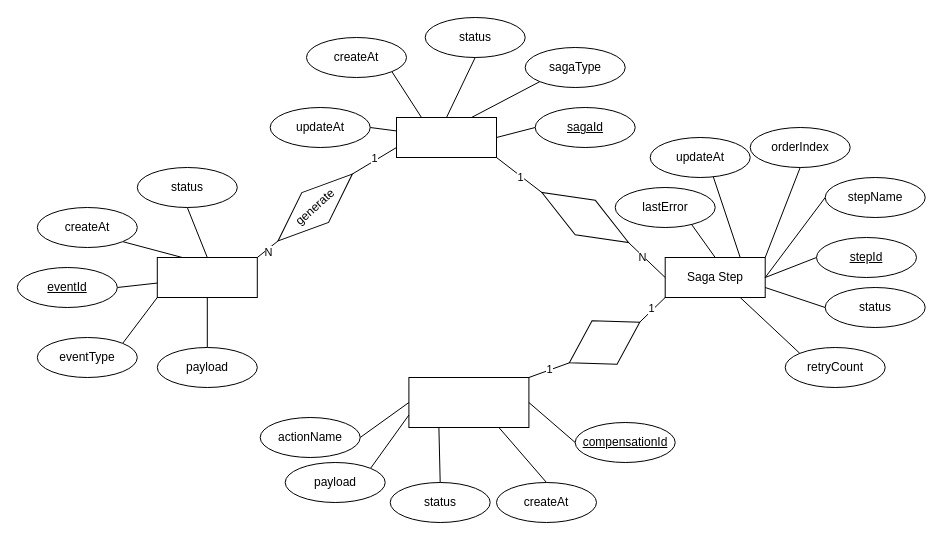
Image size: 943x540. Some labels were removed from this diagram. The box of each missing label's shape, as (x1, y1, x2, y2) in pixels:
compensationAction: (408, 376, 529, 428)
has: (556, 299, 652, 385)
include: (531, 174, 639, 260)
Outbox Event: (156, 256, 257, 298)
Saga Instance: (396, 116, 496, 158)
